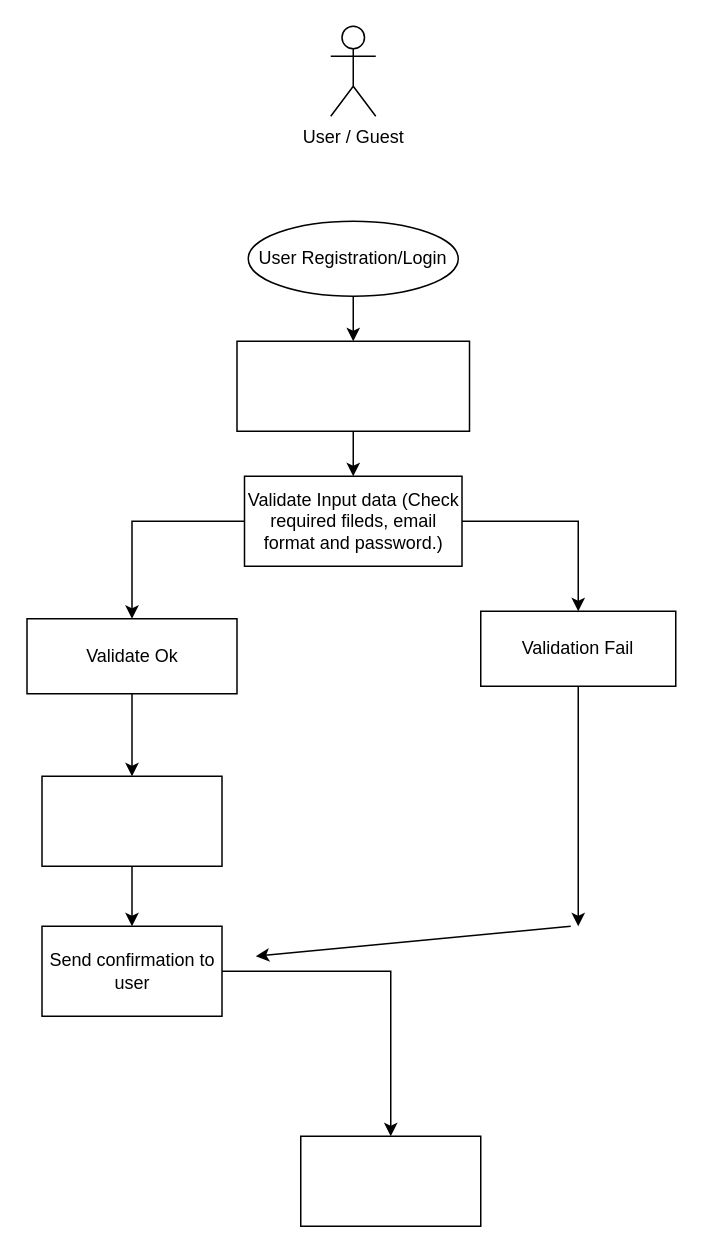
The diagram is 702 pixels wide and 1253 high, and some of its shapes have lost their labels. The shapes that lost their labels are listed below. From the top down, each one's centre as x and y in pixels, then its label:
At pixel 353 385: "User enters registration info (name, email, password etc)".
At pixel 131 820: "Store User data in database".
At pixel 390 1180: "Ends".
